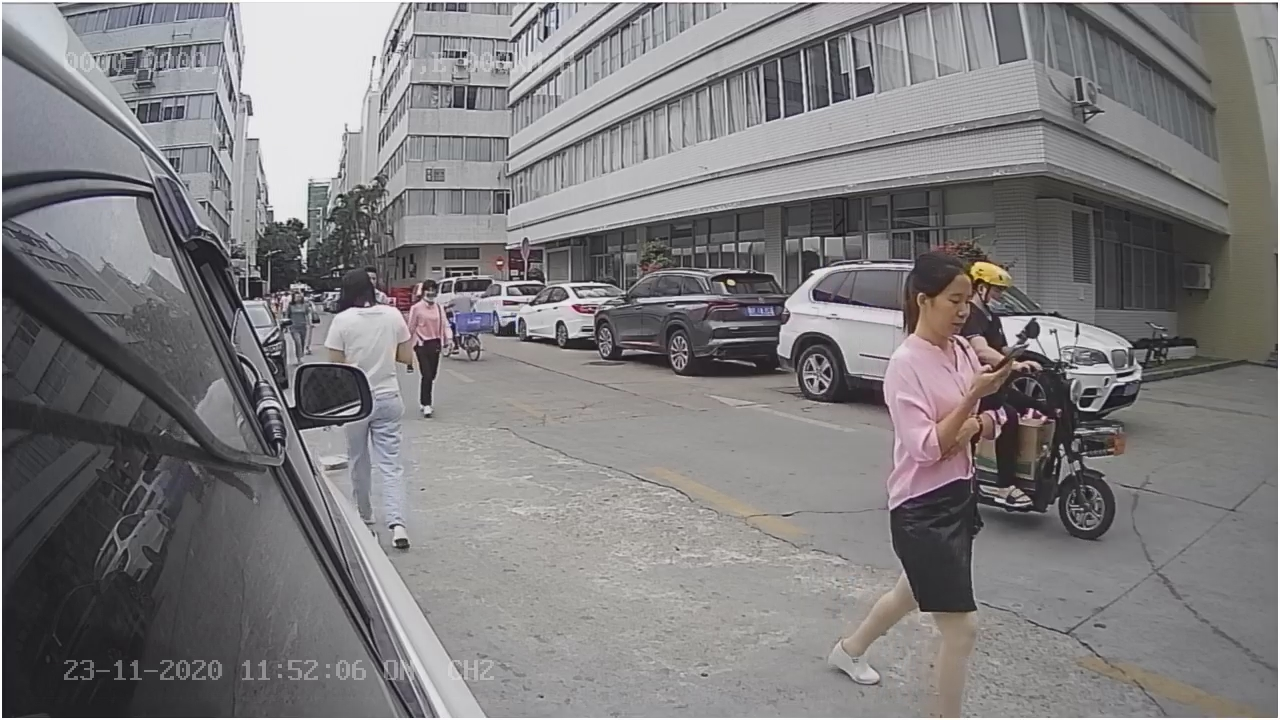person: (883, 254, 1006, 482), (325, 265, 417, 366)
